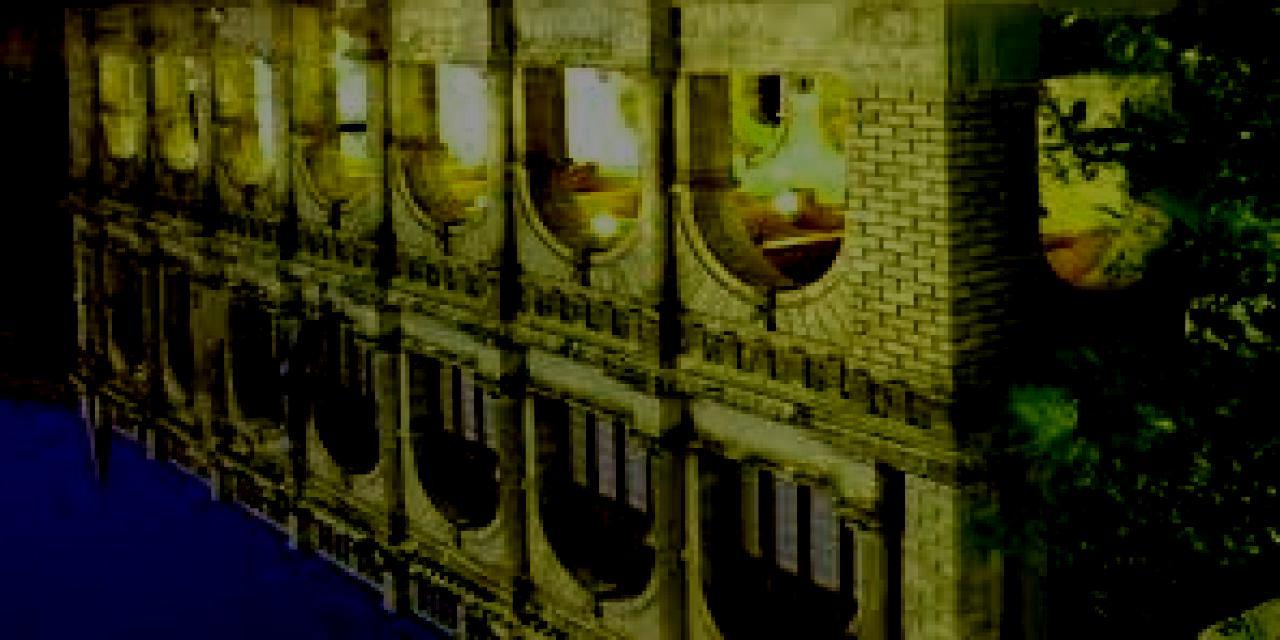Loggia: (60, 2, 1280, 640)
